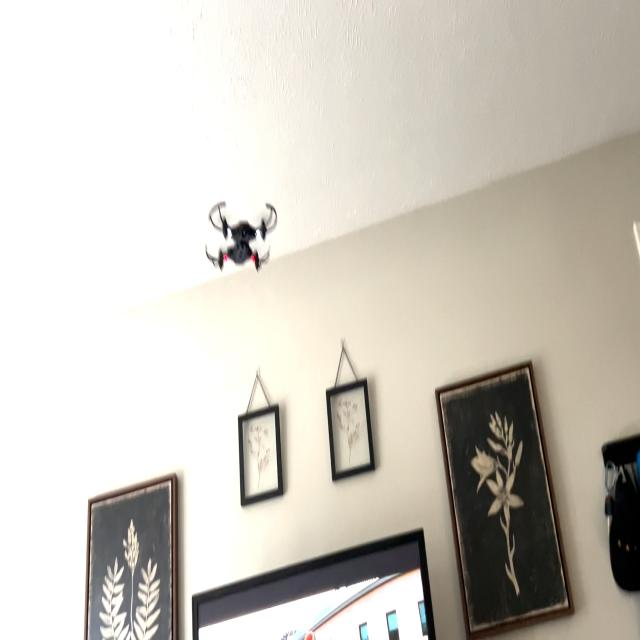drone: (197, 177, 282, 287)
